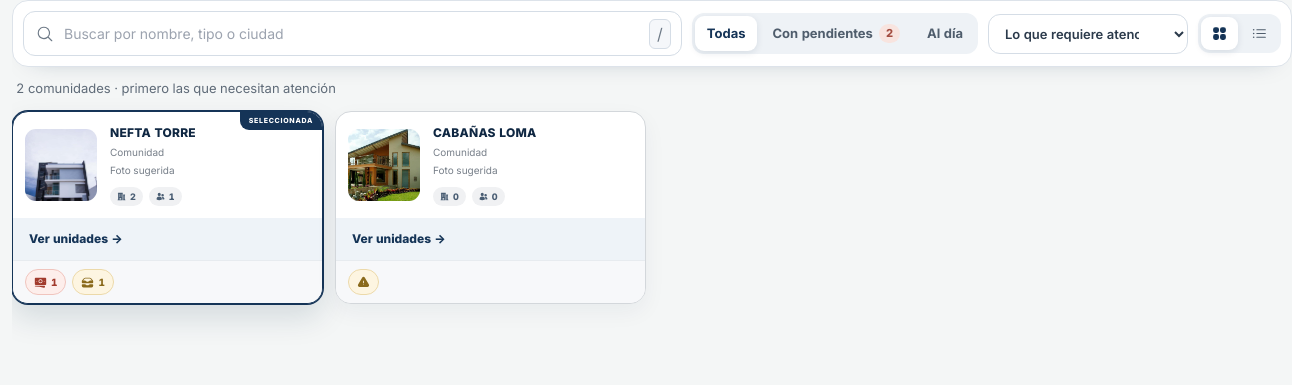
Test case: CommunityCards › busca sin acentos, filtra por pendientes y cambia a lista
Type "cabanas" into the search field named "Buscar comunidad".
click(352, 34); type("cabanas")  # box [23,11,682,56]
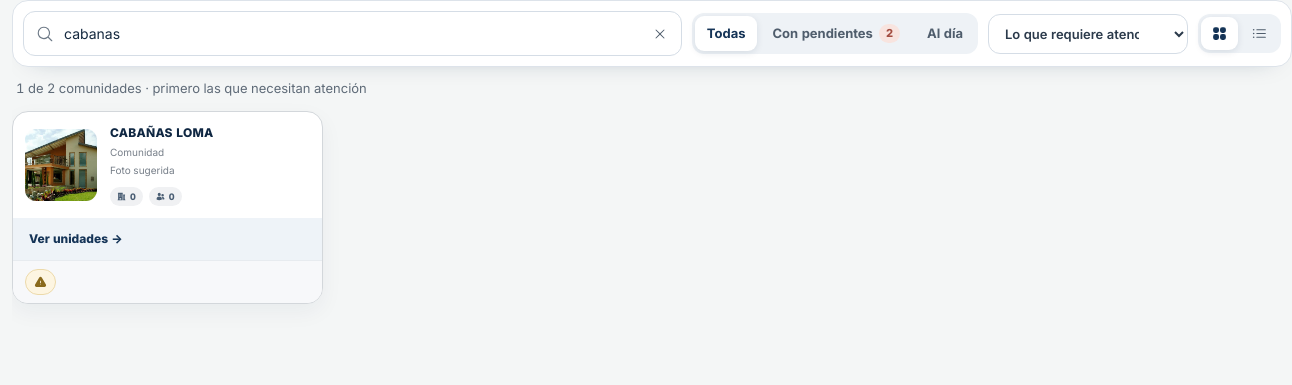
Expected: the text "1 de 2 comunidades · primero las que necesitan atención" is shown, [16,80,367,96]
Expected: the button "Nefta Torre" is gone
Replace the text in the search field named "Buscar comunidad" with "zzz" at (352, 34), box [23,11,682,56]
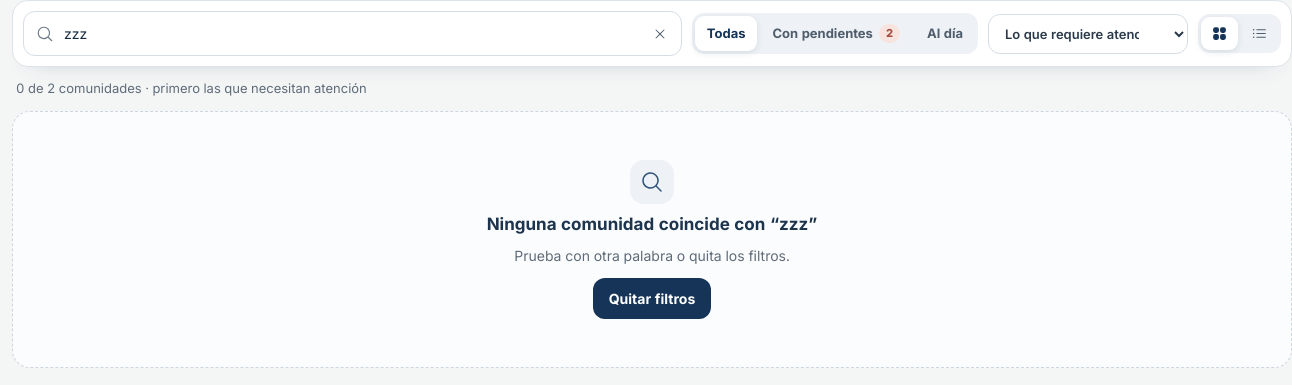
Expected: the text "Ninguna comunidad coincide con “zzz”" is shown, [487,212,817,237]
Click the button "Quitar filtros".
click(652, 298)  # box [593,278,711,319]
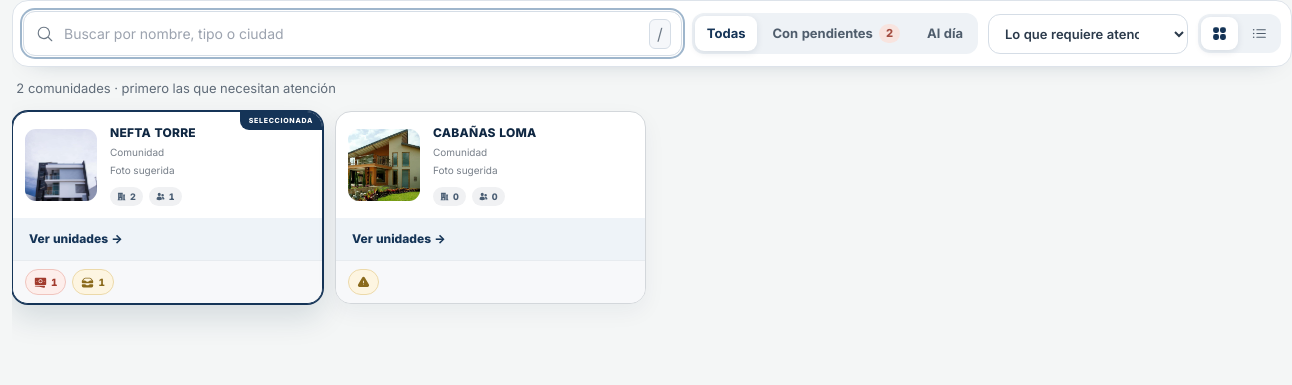
Click the radio button named "Lista".
click(1260, 34)  # box [1241,17,1278,50]
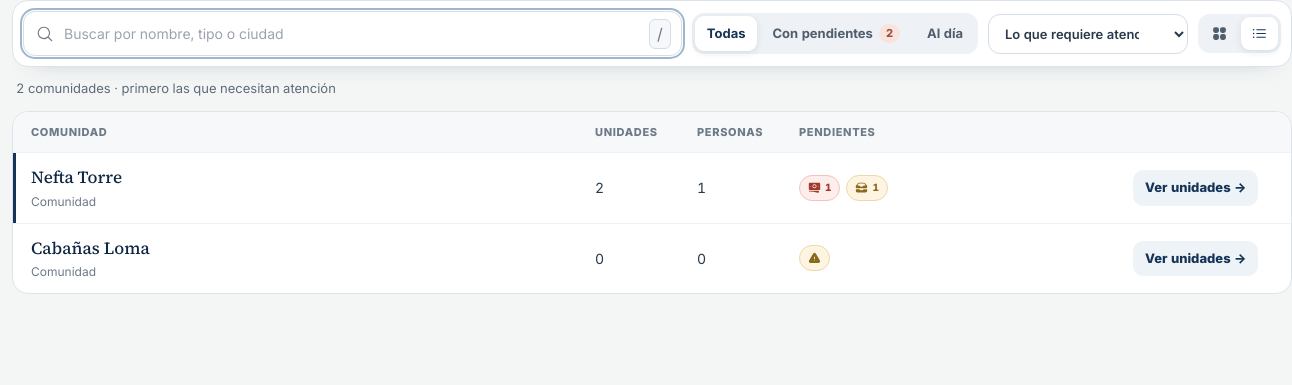
Expected: the button with aria-label "Ver unidades de Nefta Torre" is shown, [1133,170,1258,206]
Expected: the table named "Comunidades" is shown, [12,110,1291,294]
